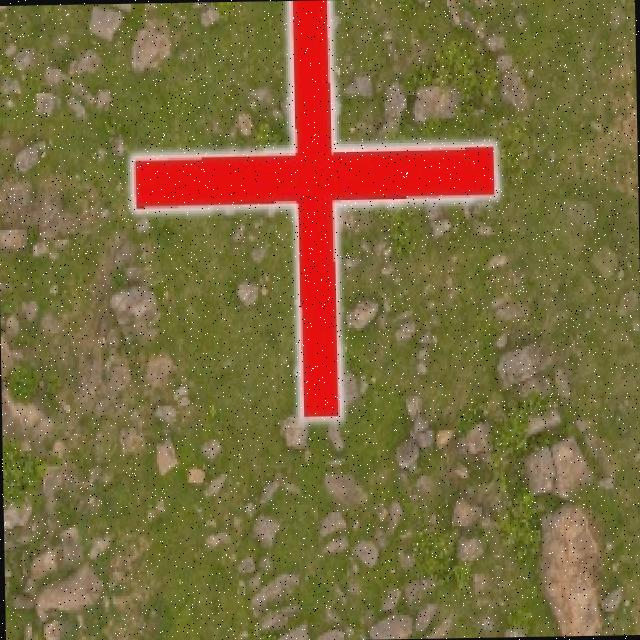x_marker: (129, 0, 498, 419)
